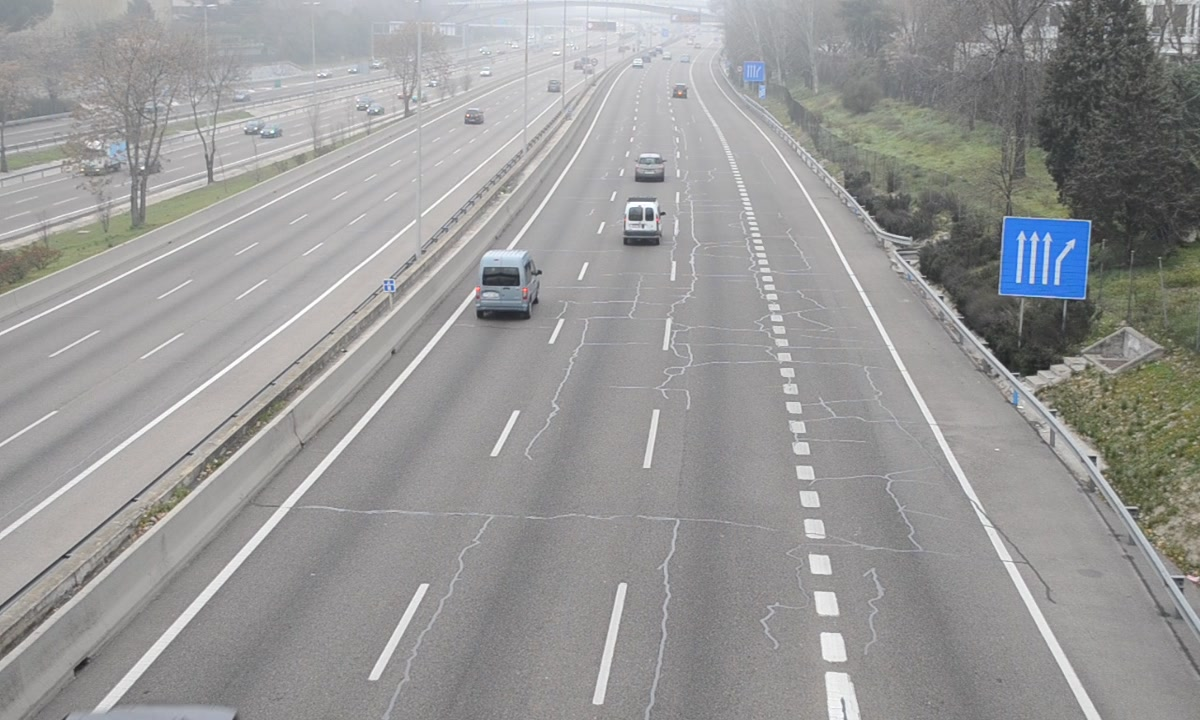car: (633, 153, 666, 183)
van: (475, 252, 539, 315), (624, 198, 661, 247)
